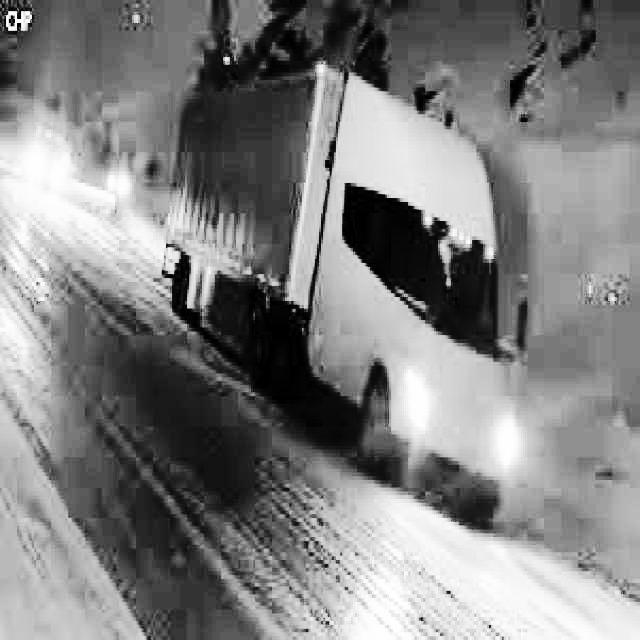Truck: (160, 57, 532, 514)
